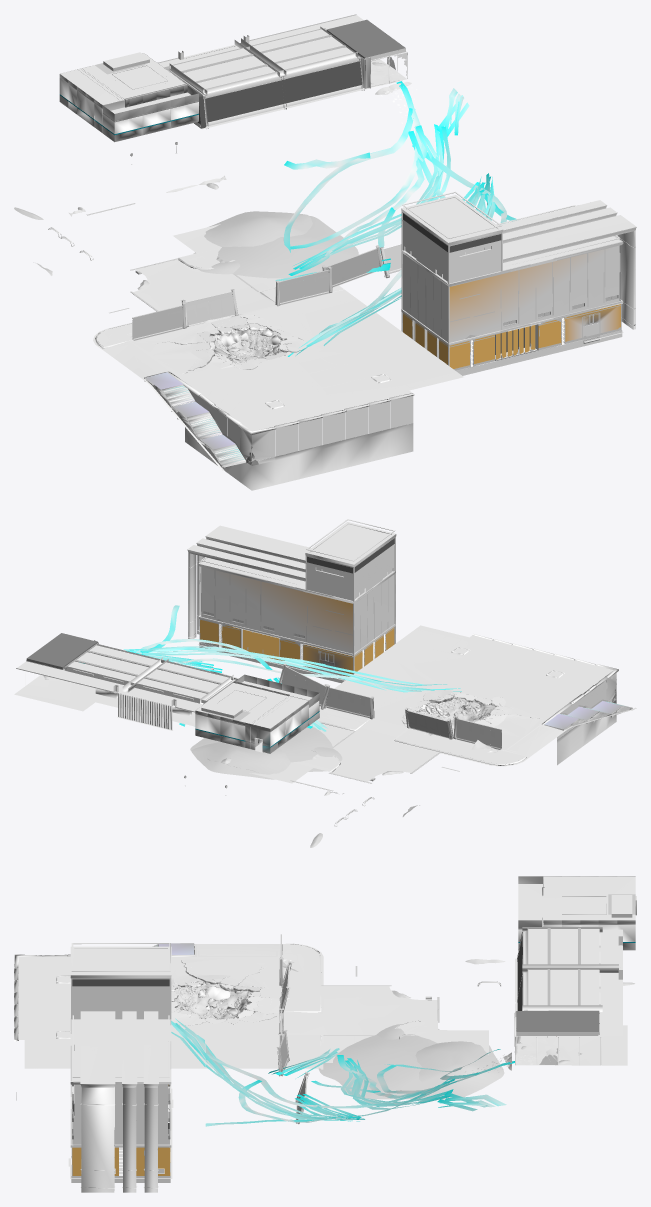
The model's file is cell_84_59.fbx.
The picture shows the model from 3 angles, top to bottom: view 1: azimuth 30°, elevation 25°; view 2: azimuth 150°, elevation 25°; view 3: azimuth 270°, elevation 25°; orthographic projection. The views are drawn at different scales.
Parts seen in each view (by area): view 1: SM_I_RoadFacility_Ground_C_02G.mo, SM_H_Building_FutureTech_Aerospace_01.mo.001, SM_H_Building_FutureTech_CtControl_01_InterWall_16.mo, SM_H_Building_FutureTech_CtControl_01_InterWall_12.mo, SpaceCenter_Long3_GenerateRoad_Sand_TireTracks_Width_Mesh_x1, SpaceCenter_Long3_GenerateRoad_Sand_TireTracks_Narrow_Mesh_x (×2), SM_I_RoadFacility_Ground_C_02C.mo, SM_I_Terrain_Road_Desert_Decal_Sand_01.mo.132, SM_H_Building_FutureTech_Aerospace_01_Decal.mo.001, SM_I_Terrain_Road_Desert_Decal_Sand_01.mo.123, SM_H_Fence_SoundproofWall_02.mo.093, SM_H_Fence_SoundproofWall_02.mo.104 (+4 smaller); view 2: SM_I_RoadFacility_Ground_C_02G.mo, SM_H_Building_FutureTech_Aerospace_01.mo.001, SM_H_Building_FutureTech_CtControl_01_InterWall_16.mo, SM_H_Building_FutureTech_CtControl_01_InterWall_12.mo, SM_I_RoadFacility_Ground_C_02C.mo, SpaceCenter_Long3_GenerateRoad_Sand_TireTracks_Narrow_Mesh_x (×2), SM_I_Terrain_Road_Desert_Decal_Sand_01.mo.123, SM_H_Building_FutureTech_Aerospace_01_Decal.mo.001, SM_I_Terrain_Road_Desert_Decal_Sand_01.mo.132, SpaceCenter_Long3_GenerateRoad_Sand_TireTracks_Width_Mesh_x1, SM_H_Fence_SoundproofWall_02.mo.093, SM_H_Fence_SoundproofWall_02.mo.104 (+3 smaller); view 3: SM_I_RoadFacility_Ground_C_02G.mo, SM_H_Building_FutureTech_Aerospace_01.mo.001, SM_H_Building_FutureTech_CtControl_01_InterWall_16.mo, SM_H_Building_FutureTech_CtControl_01_InterWall_12.mo, SpaceCenter_Long3_GenerateRoad_Sand_TireTracks_Narrow_Mesh_x (×2), SM_I_Terrain_Road_Desert_Decal_Sand_01.mo.132, SM_I_Terrain_Road_Desert_Decal_Sand_01.mo.123, SpaceCenter_Long3_GenerateRoad_Sand_TireTracks_Width_Mesh_x1, SM_I_RoadFacility_Ground_C_02C.mo, SM_I_RoadFacility_Ground_C_02H.mo, SM_I_RoadFacility_Ground_C_02I.mo, SM_H_Building_FutureTech_Aerospace_01_Decal.mo.001.
Boxes of the visible parts, x1,y1,x2,y2 form: SM_I_RoadFacility_Ground_C_02G.mo: (95, 224, 463, 490); SM_H_Building_FutureTech_Aerospace_01.mo.001: (401, 191, 636, 375); SM_H_Building_FutureTech_CtControl_01_InterWall_16.mo: (157, 14, 407, 129); SM_H_Building_FutureTech_CtControl_01_InterWall_12.mo: (59, 52, 198, 142); SpaceCenter_Long3_GenerateRoad_Sand_TireTracks_Width_Mesh_x1: (283, 81, 516, 314); SpaceCenter_Long3_GenerateRoad_Sand_TireTracks_Narrow_Mesh_x (×2): (275, 88, 495, 356); SM_I_RoadFacility_Ground_C_02C.mo: (93, 247, 463, 470); SM_I_Terrain_Road_Desert_Decal_Sand_01.mo.132: (193, 216, 358, 278); SM_H_Building_FutureTech_Aerospace_01_Decal.mo.001: (401, 236, 622, 370); SM_I_Terrain_Road_Desert_Decal_Sand_01.mo.123: (204, 211, 312, 246); SM_H_Fence_SoundproofWall_02.mo.093: (132, 302, 186, 340); SM_H_Fence_SoundproofWall_02.mo.104: (279, 266, 332, 305); SM_I_RoadFacility_Ground_C_02G.mo: (249, 625, 636, 783); SM_H_Building_FutureTech_Aerospace_01.mo.001: (187, 519, 396, 683); SM_H_Building_FutureTech_CtControl_01_InterWall_16.mo: (14, 633, 236, 730); SM_H_Building_FutureTech_CtControl_01_InterWall_12.mo: (195, 674, 319, 753); SM_I_RoadFacility_Ground_C_02C.mo: (291, 625, 636, 780); SpaceCenter_Long3_GenerateRoad_Sand_TireTracks_Narrow_Mesh_x (×2): (83, 646, 461, 731); SM_I_Terrain_Road_Desert_Decal_Sand_01.mo.123: (191, 742, 290, 779); SM_H_Building_FutureTech_Aerospace_01_Decal.mo.001: (188, 553, 395, 675); SM_I_Terrain_Road_Desert_Decal_Sand_01.mo.132: (190, 727, 332, 771); SpaceCenter_Long3_GenerateRoad_Sand_TireTracks_Width_Mesh_x1: (79, 605, 362, 728); SM_H_Fence_SoundproofWall_02.mo.093: (453, 715, 501, 750); SM_H_Fence_SoundproofWall_02.mo.104: (324, 684, 370, 718); SM_I_RoadFacility_Ground_C_02G.mo: (14, 943, 488, 1100); SM_H_Building_FutureTech_Aerospace_01.mo.001: (68, 943, 173, 1192); SM_H_Building_FutureTech_CtControl_01_InterWall_16.mo: (514, 927, 627, 1065); SM_H_Building_FutureTech_CtControl_01_InterWall_12.mo: (518, 876, 636, 950); SpaceCenter_Long3_GenerateRoad_Sand_TireTracks_Narrow_Mesh_x (×2): (171, 1018, 506, 1121); SM_I_Terrain_Road_Desert_Decal_Sand_01.mo.132: (318, 1029, 465, 1099); SM_I_Terrain_Road_Desert_Decal_Sand_01.mo.123: (415, 1041, 504, 1096); SpaceCenter_Long3_GenerateRoad_Sand_TireTracks_Width_Mesh_x1: (205, 1049, 514, 1126); SM_I_RoadFacility_Ground_C_02C.mo: (18, 943, 437, 1068); SM_I_RoadFacility_Ground_C_02H.mo: (174, 984, 249, 1019); SM_I_RoadFacility_Ground_C_02I.mo: (176, 986, 247, 1019); SM_H_Building_FutureTech_Aerospace_01_Decal.mo.001: (70, 1018, 171, 1175).
Bounding box in the file's own units: 87.17 × 33.43 × 96.25.
